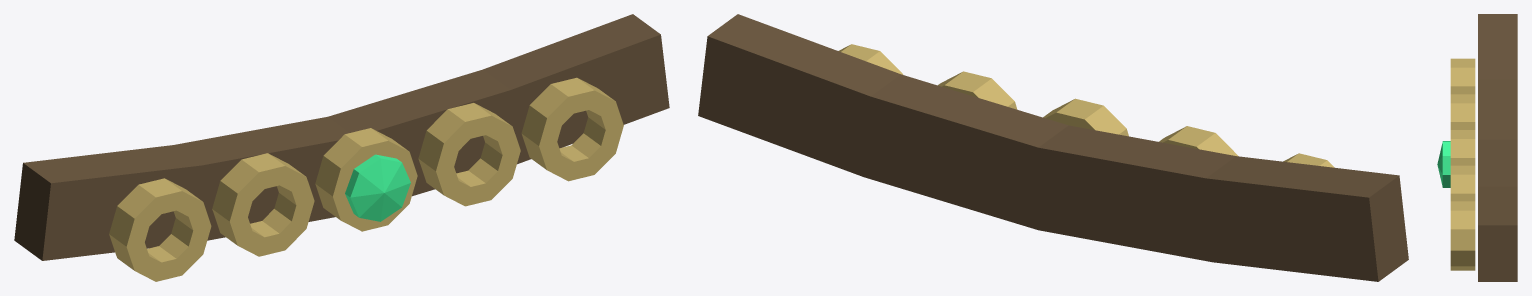
File: ring_belt.obj
The picture shows the model from 3 angles, left to right: view 1: azimuth 30°, elevation 25°; view 2: azimuth 150°, elevation 25°; view 3: azimuth 270°, elevation 25°; orthographic projection. The views are drawn at different scales.
Parts seen in each view (by area): view 1: ring_belt, ring_belt_edge, belt_ring_-0.34, belt_ring_-0.17, belt_ring_0.17, belt_ring_0.34, belt_ring_0, ring_belt_gem; view 2: ring_belt, ring_belt_edge, belt_ring_0, belt_ring_0.17, belt_ring_-0.17, belt_ring_0.34; view 3: ring_belt_edge, belt_ring_0.34, belt_ring_-0.34, belt_ring_0.17, belt_ring_-0.17, belt_ring_0, ring_belt_gem.
Boxes of the visible parts, box(x1,y1,x2,y2) form: ring_belt: box(42, 34, 669, 260); ring_belt_edge: box(14, 14, 660, 260); belt_ring_-0.34: box(109, 178, 211, 281); belt_ring_-0.17: box(212, 153, 314, 256); belt_ring_0.17: box(418, 103, 520, 206); belt_ring_0.34: box(521, 77, 623, 181); belt_ring_0: box(315, 128, 417, 231); ring_belt_gem: box(345, 154, 410, 221); ring_belt: box(698, 36, 1378, 281); ring_belt_edge: box(708, 14, 1408, 281); belt_ring_0: box(1043, 98, 1128, 136); belt_ring_0.17: box(938, 71, 1017, 109); belt_ring_-0.17: box(1159, 126, 1238, 156); belt_ring_0.34: box(838, 44, 903, 74); ring_belt_edge: box(1478, 14, 1517, 281); belt_ring_0.34: box(1450, 201, 1475, 270); belt_ring_-0.34: box(1450, 58, 1475, 94); belt_ring_0.17: box(1450, 165, 1475, 201); belt_ring_-0.17: box(1450, 94, 1475, 129); belt_ring_0: box(1450, 130, 1475, 165); ring_belt_gem: box(1437, 141, 1450, 187).
Size of the model in its own units: 1.03 by 0.1661 by 0.1615.
